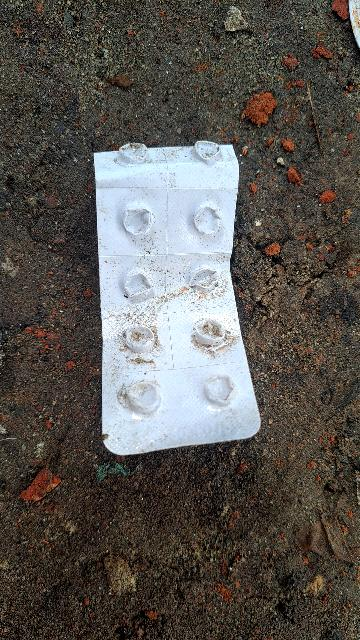medicine: (79, 136, 275, 464)
